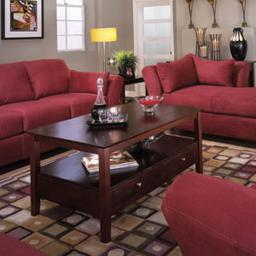Puerta: (136, 2, 172, 66)
Ventana: (56, 1, 90, 50)
